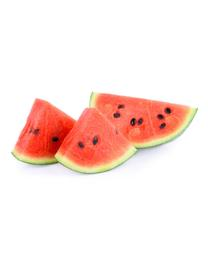watermelon: (16, 89, 197, 169)
